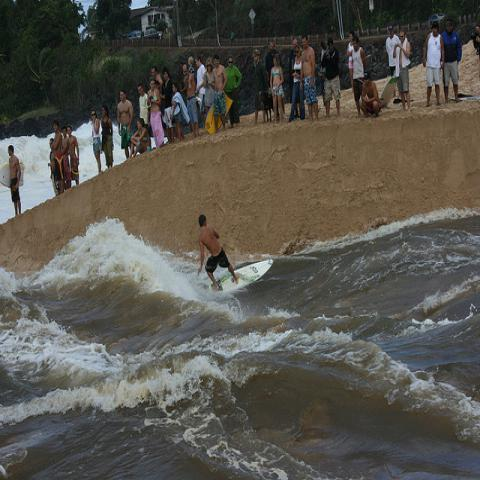car: (144, 28, 163, 40), (127, 31, 142, 40)
